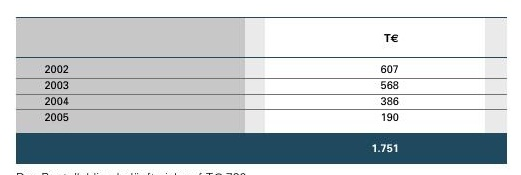table: (0, 0, 521, 175)
